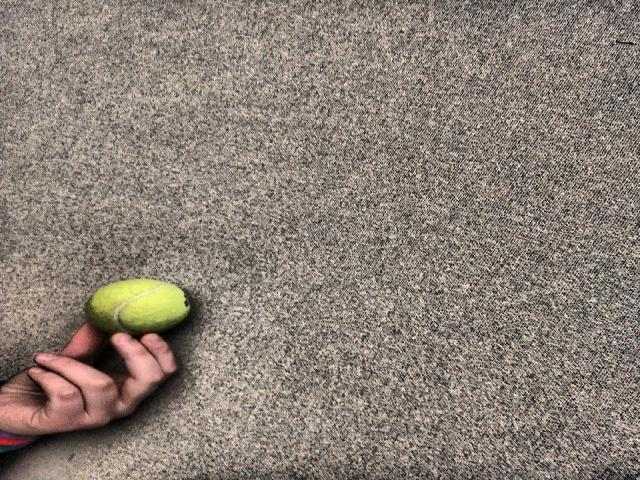tennis-ball: (85, 278, 191, 337)
